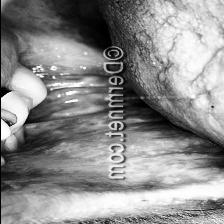Non-Cancerous Skin Condition: (138, 0, 224, 191), (16, 5, 89, 205)
